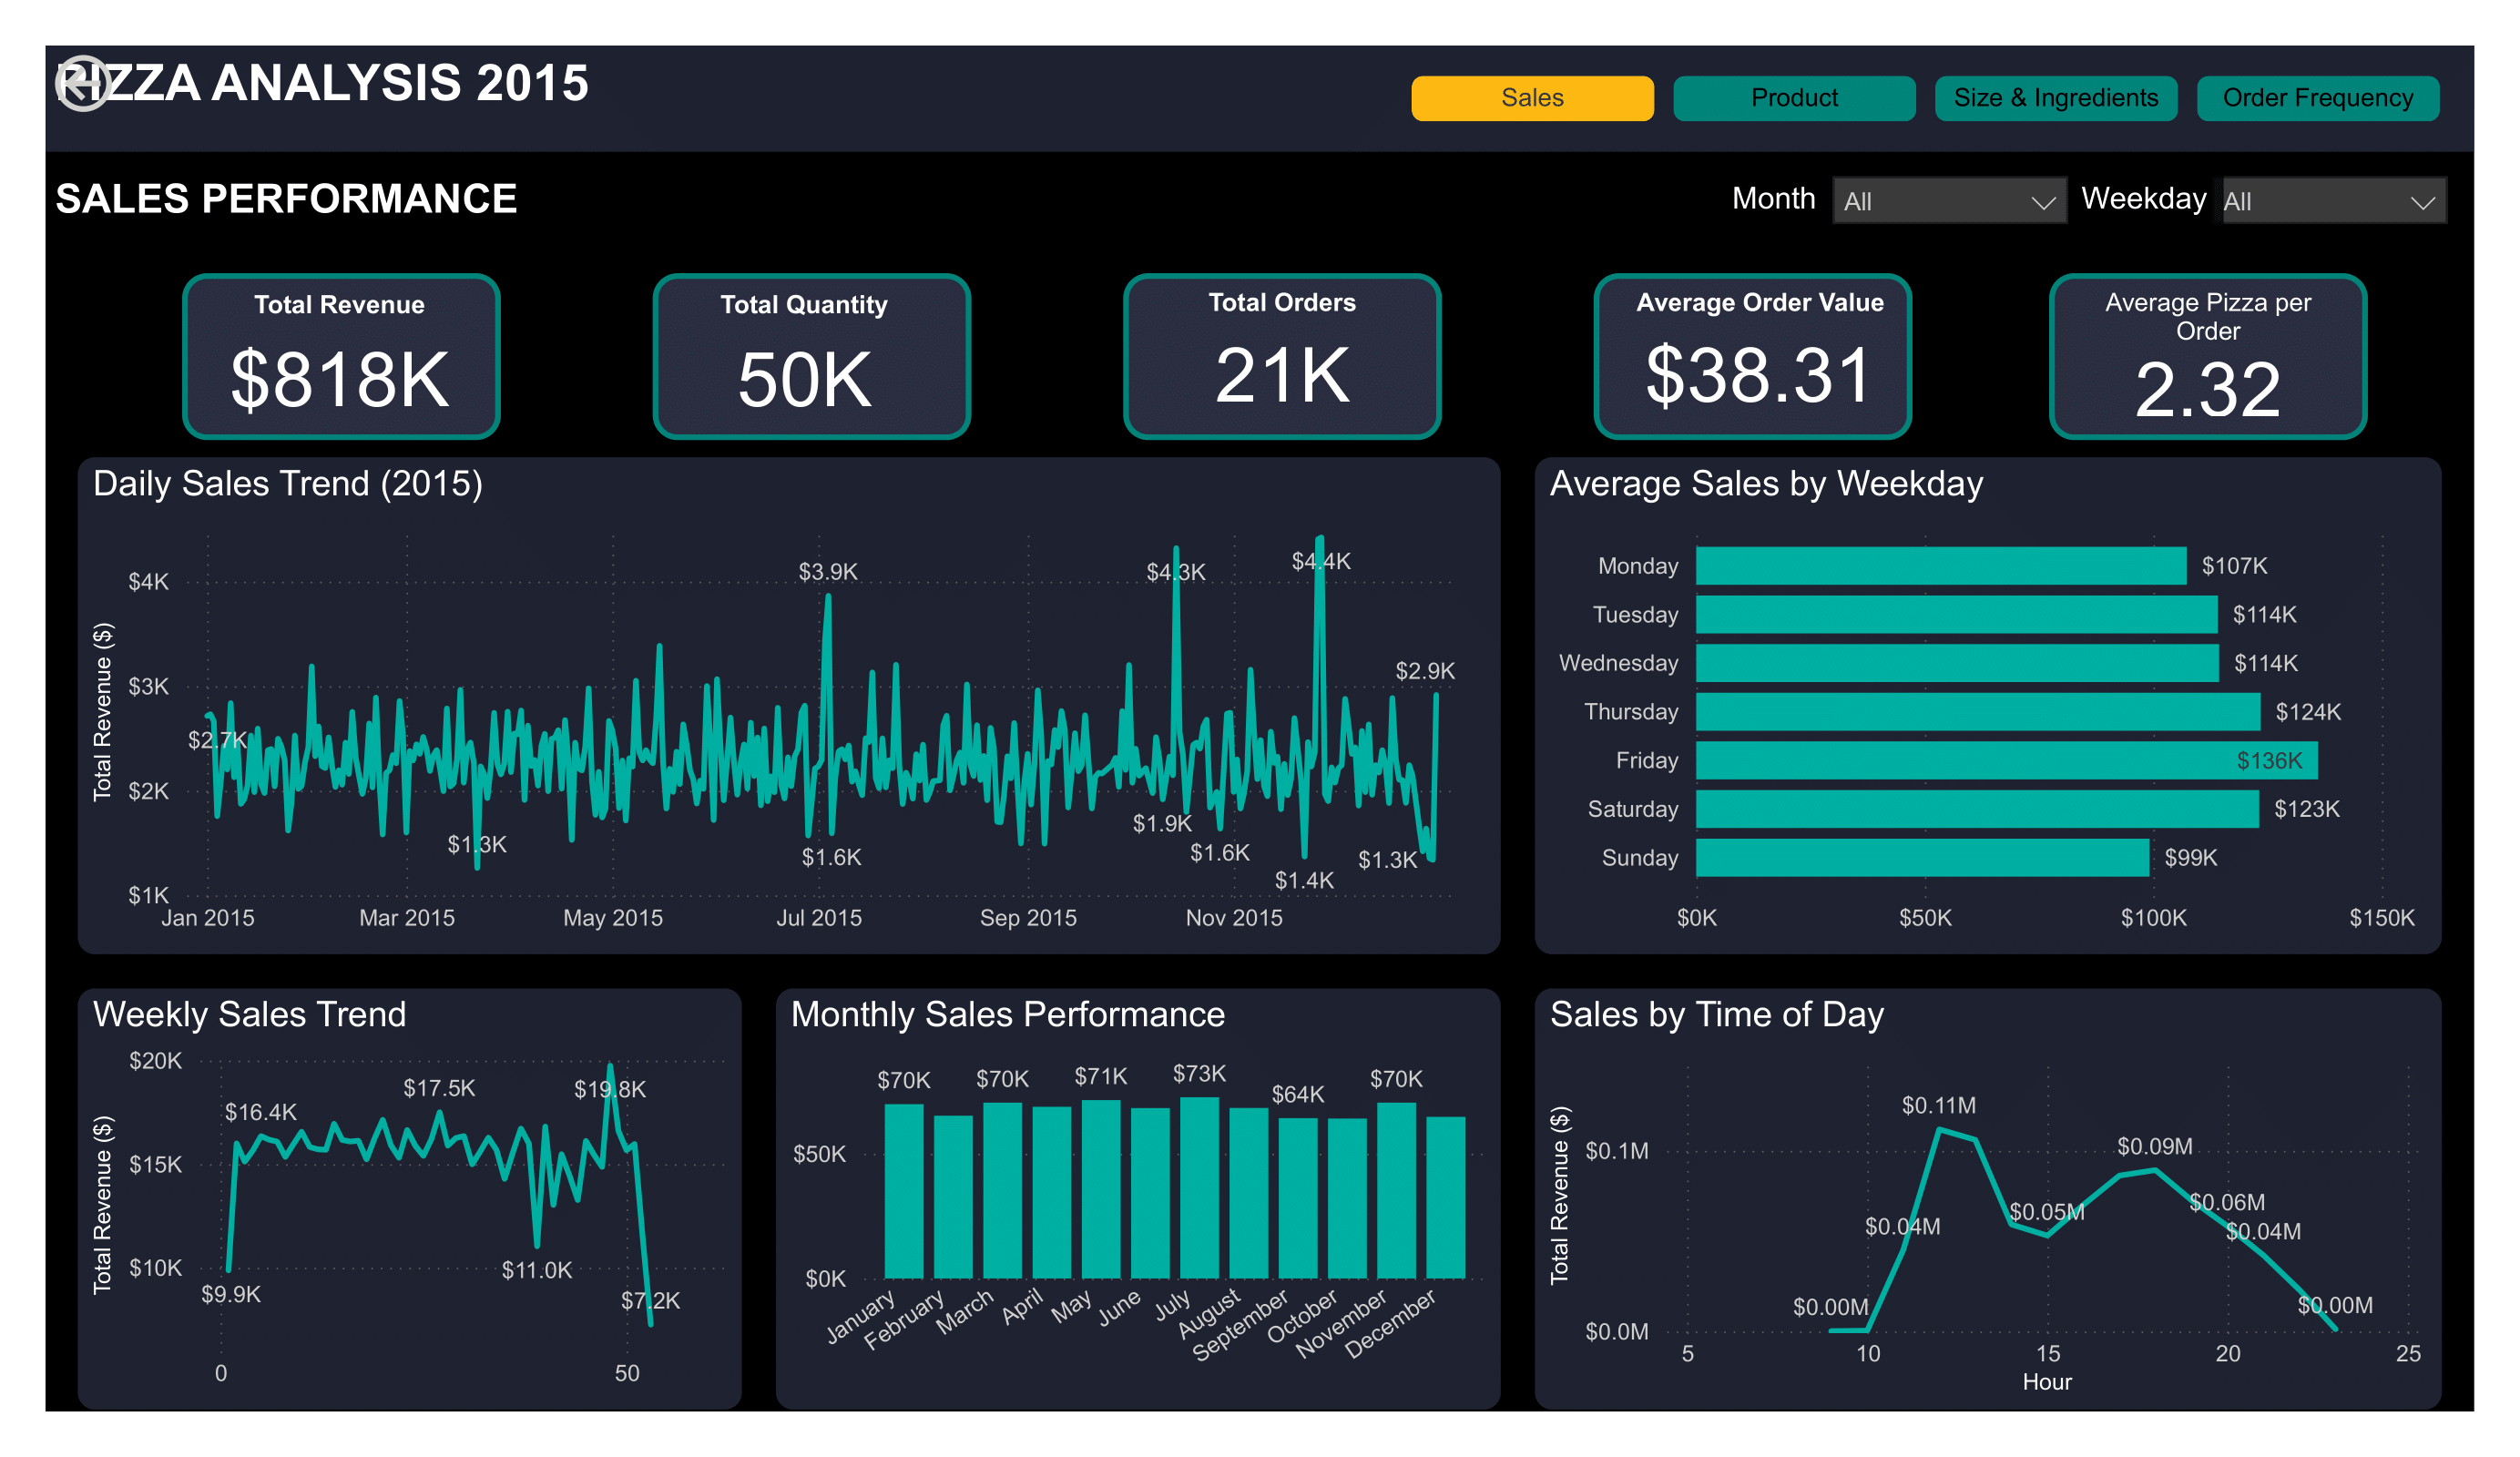

What the dashboard file says about the page in this screenshot:
{"tool":"powerbi","page":{"name":"Sales","canvas":[1280,720],"ordinal":0},"visuals":[{"type":"textbox","box":[0,0,1280,56],"z":0},{"type":"shape","box":[72,120,168,88],"z":0,"group":"g3"},{"type":"shape","box":[320,120,168,88],"z":0,"group":"g2"},{"type":"group","id":"g1","title":"Group 1","box":[568,120,168,88],"z":0,"group":"g5"},{"type":"shape","box":[568,120,168,88],"z":0,"group":"g1"},{"type":"group","id":"g2","title":"Group 1","box":[320,120,168,88],"z":1000,"group":"g4"},{"type":"shape","box":[816,120,168,88],"z":1000,"group":"g6"},{"type":"lineChart","title":"Daily Sales Trend (2015)","fields":{"Category":["Date dim.Date"],"Y":["_Measures.Total Revenue"]},"box":[16,216,752,264],"z":1000},{"type":"actionButton","box":[0,0,100,40],"z":2000},{"type":"shape","box":[1056,120,168,88],"z":2000,"group":"g7"},{"type":"card","title":"Total Revenue","fields":{"Values":["_Measures.Total Revenue"]},"box":[80,128.7,150,75],"z":2000,"group":"g3"},{"type":"slicer","fields":{"Values":["Date dim.Month Name"]},"box":[932.2,58.9,144,40],"z":3000},{"type":"slicer","fields":{"Values":["Date dim.Weekday Name"]},"box":[1132.2,58.9,144,48],"z":4000},{"type":"card","title":"Total Orders","fields":{"Values":["_Measures.Total Orders"]},"box":[584,128,136,72],"z":4000,"group":"g5"},{"type":"card","title":"Average Order Value","fields":{"Values":["_Measures.Average Order Value"]},"box":[832,128,144,72],"z":5000,"group":"g6"},{"type":"card","title":"Total Quantity","fields":{"Values":["_Measures.Total Quantity"]},"box":[328,128.7,144,75],"z":5000,"group":"g4"},{"type":"barChart","title":"Average Sales by Weekday","fields":{"Y":["_Measures.Total Revenue"],"Category":["Date dim.Weekday Name"]},"box":[784,216,480,264],"z":5000},{"type":"card","title":"Average Pizza per Order","fields":{"Values":["_Measures.Average Pizza per Order"]},"box":[1064,128,152,72],"z":6000,"group":"g7"},{"type":"lineChart","title":"Sales by Time of Day","fields":{"Y":["_Measures.Total Revenue"],"Category":["data_pizza.Hour"]},"box":[784,496,480,224],"z":6000},{"type":"textbox","box":[0,64,272,40],"z":7000},{"type":"lineChart","title":"Weekly Sales Trend","fields":{"Y":["_Measures.Total Revenue"],"Category":["Date dim.Week Number"]},"box":[16,496,352,224],"z":8000},{"type":"columnChart","title":"Monthly Sales Performance","fields":{"Category":["Date dim.Month Name"],"Y":["_Measures.Total Revenue"]},"box":[384,496,384,224],"z":9000},{"type":"textbox","box":[884.2,66.9,56,32],"z":10000},{"type":"textbox","box":[1068.2,66.9,80,32],"z":11000},{"type":"pageNavigator","box":[720,16,544,24],"z":12000},{"type":"group","id":"g3","title":"Group 1","box":[72,120,168,88],"z":13000},{"type":"group","id":"g4","title":"Group 2","box":[320,120,168,88],"z":14000},{"type":"group","id":"g5","title":"Group 3","box":[568,120,168,88],"z":15000},{"type":"group","id":"g6","title":"Group 4","box":[816,120,168,88],"z":16000},{"type":"group","id":"g7","title":"Group 5","box":[1056,120,160,96],"z":17000}]}

Visuals, with their boxes on the page's 1280x720 design canvas (x1, y1, x2, y2). These are canvas units, not pixel positions in the 2520x1457 screenshot, which may show the page scaled, cropped or inside an application window:
textbox: Rect(0, 0, 1280, 56)
shape: Rect(72, 120, 240, 208)
shape: Rect(320, 120, 488, 208)
"Group 1" group: Rect(568, 120, 736, 208)
shape: Rect(568, 120, 736, 208)
"Group 1" group: Rect(320, 120, 488, 208)
shape: Rect(816, 120, 984, 208)
"Daily Sales Trend (2015)" lineChart: Rect(16, 216, 768, 480)
actionButton: Rect(0, 0, 100, 40)
shape: Rect(1056, 120, 1224, 208)
"Total Revenue" card: Rect(80, 129, 230, 204)
slicer - Date dim.Month Name: Rect(932, 59, 1076, 99)
slicer - Date dim.Weekday Name: Rect(1132, 59, 1276, 107)
"Total Orders" card: Rect(584, 128, 720, 200)
"Average Order Value" card: Rect(832, 128, 976, 200)
"Total Quantity" card: Rect(328, 129, 472, 204)
"Average Sales by Weekday" barChart: Rect(784, 216, 1264, 480)
"Average Pizza per Order" card: Rect(1064, 128, 1216, 200)
"Sales by Time of Day" lineChart: Rect(784, 496, 1264, 720)
textbox: Rect(0, 64, 272, 104)
"Weekly Sales Trend" lineChart: Rect(16, 496, 368, 720)
"Monthly Sales Performance" columnChart: Rect(384, 496, 768, 720)
textbox: Rect(884, 67, 940, 99)
textbox: Rect(1068, 67, 1148, 99)
pageNavigator: Rect(720, 16, 1264, 40)
"Group 1" group: Rect(72, 120, 240, 208)
"Group 2" group: Rect(320, 120, 488, 208)
"Group 3" group: Rect(568, 120, 736, 208)
"Group 4" group: Rect(816, 120, 984, 208)
"Group 5" group: Rect(1056, 120, 1216, 216)
